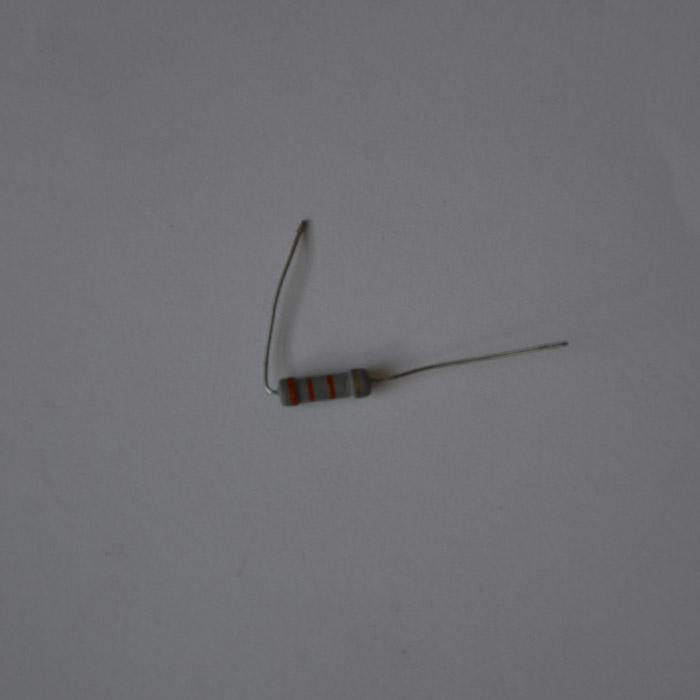resistor: (277, 367, 373, 407)
